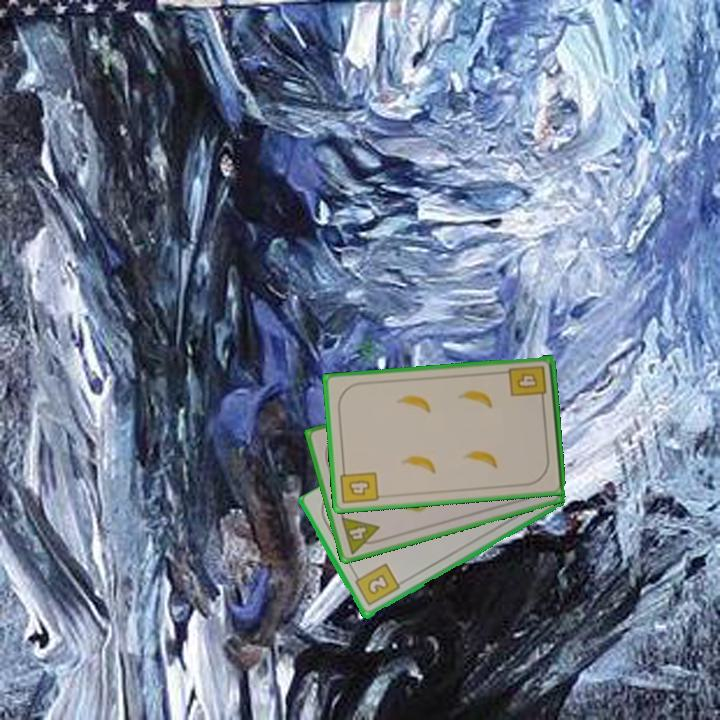2b: (350, 560, 402, 609)
4b: (337, 463, 381, 507), (506, 362, 550, 405)
4p: (337, 513, 386, 557)
